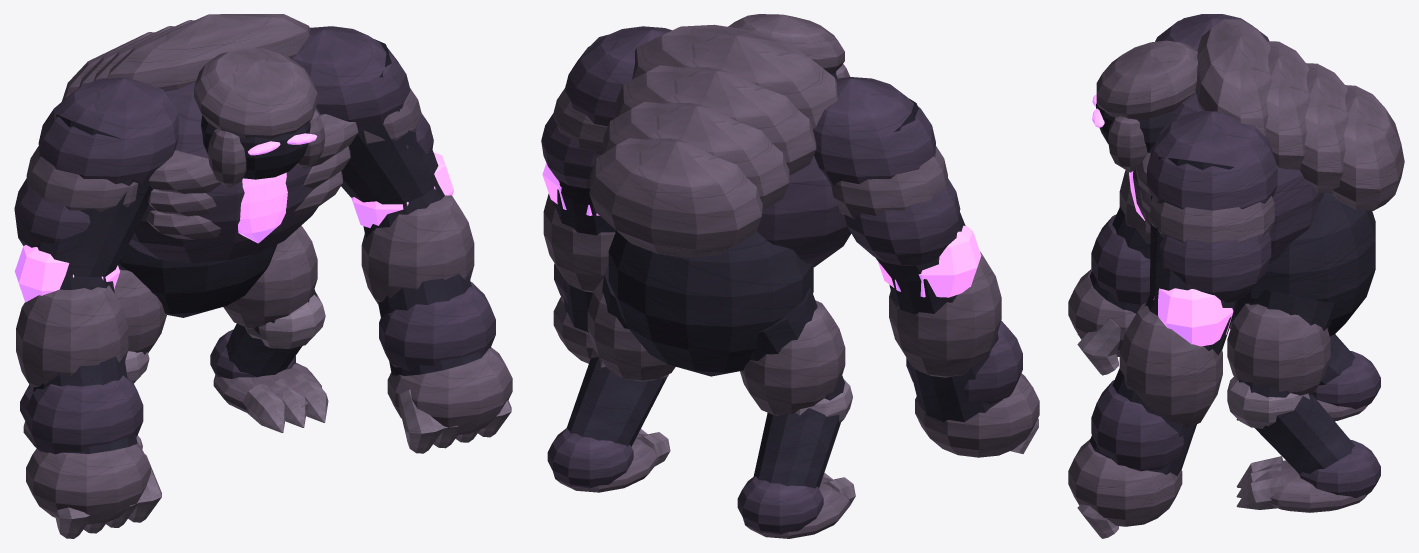
Rendered from brute_static.glb.
3 views of the same model, side by side, from view 1: azimuth 30°, elevation 25°; view 2: azimuth 150°, elevation 25°; view 3: azimuth 270°, elevation 25° (orthographic). The views are drawn at different scales.
Visible parts, largest first — view 1: Shoulder_LPlates, Shoulder_RPlates, SpinePlates, Hip_R0Plates, HeadPivotPlates, PectoralLPlates, Hip_L0Plates, PectoralRPlates; view 2: SpinePlates, Shoulder_LPlates, Hip_L0Plates, Shoulder_RPlates, Hip_R0Plates, HeadPivotPlates; view 3: Shoulder_RPlates, SpinePlates, Hip_R0Plates, Shoulder_LPlates, HeadPivotPlates, Hip_L0Plates, PectoralRPlates.
Part boxes in pixels (bbox=[...]): Shoulder_LPlates: bbox=[14, 78, 178, 538]; Shoulder_RPlates: bbox=[292, 26, 512, 453]; SpinePlates: bbox=[61, 14, 320, 317]; Hip_R0Plates: bbox=[210, 225, 328, 432]; HeadPivotPlates: bbox=[194, 47, 325, 188]; PectoralLPlates: bbox=[146, 150, 221, 239]; Hip_L0Plates: bbox=[20, 263, 166, 449]; PectoralRPlates: bbox=[294, 114, 358, 217]; SpinePlates: bbox=[589, 24, 851, 376]; Shoulder_LPlates: bbox=[813, 77, 1039, 457]; Hip_L0Plates: bbox=[737, 287, 855, 538]; Shoulder_RPlates: bbox=[541, 26, 671, 363]; Hip_R0Plates: bbox=[547, 263, 675, 492]; HeadPivotPlates: bbox=[728, 14, 850, 78]; Shoulder_RPlates: bbox=[1068, 111, 1277, 538]; SpinePlates: bbox=[1129, 19, 1404, 335]; Hip_R0Plates: bbox=[1227, 289, 1380, 512]; Shoulder_LPlates: bbox=[1068, 14, 1269, 375]; HeadPivotPlates: bbox=[1092, 40, 1197, 172]; Hip_L0Plates: bbox=[1230, 322, 1380, 421]; PectoralRPlates: bbox=[1136, 153, 1150, 231].
Bounding box in the file's own units: 2.03 × 1.82 × 1.31.
Materials: 2 (1 with a texture image).
